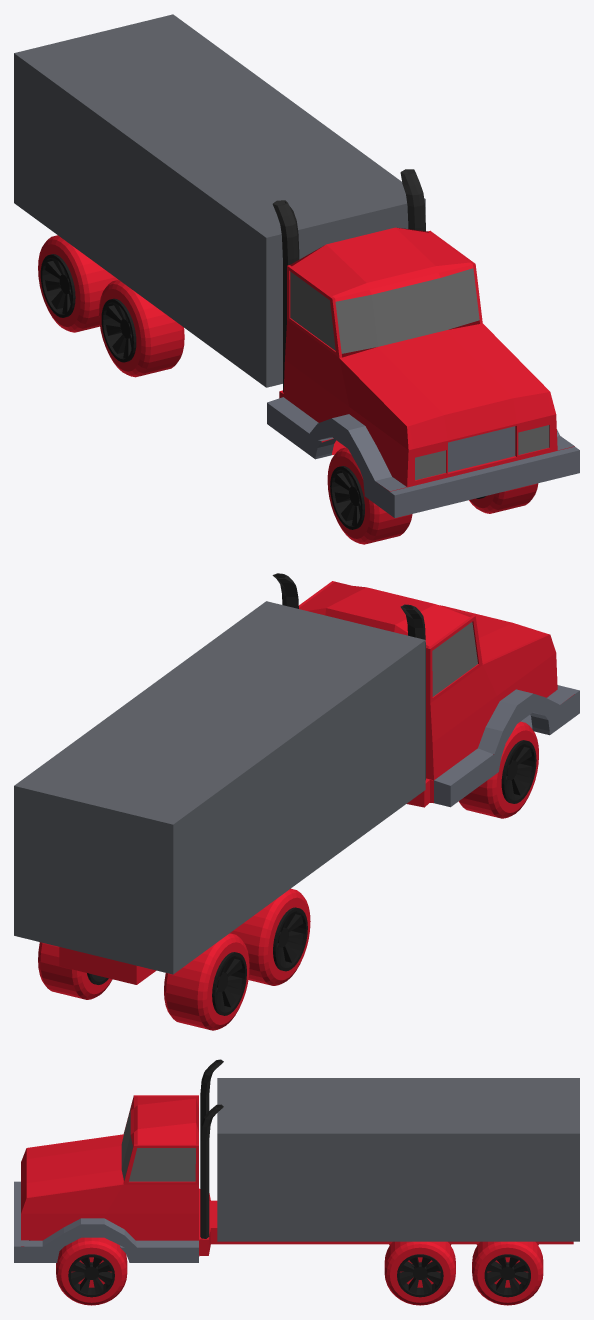
Rendered from Cargo Truck 1.fbx.
3 renders of one model, top to bottom at view 1: azimuth 30°, elevation 25°; view 2: azimuth 150°, elevation 25°; view 3: azimuth 270°, elevation 25°, orthographic. The views are drawn at different scales.
Parts seen in each view (by area): view 1: Cube; view 2: Cube; view 3: Cube.
Part boxes in pixels (left/top/right/bottom): Cube: left=14, top=14, right=579, bottom=544; Cube: left=14, top=573, right=579, bottom=1030; Cube: left=14, top=1059, right=579, bottom=1305.
Bounding box in the file's own units: 259 × 360 × 952.
